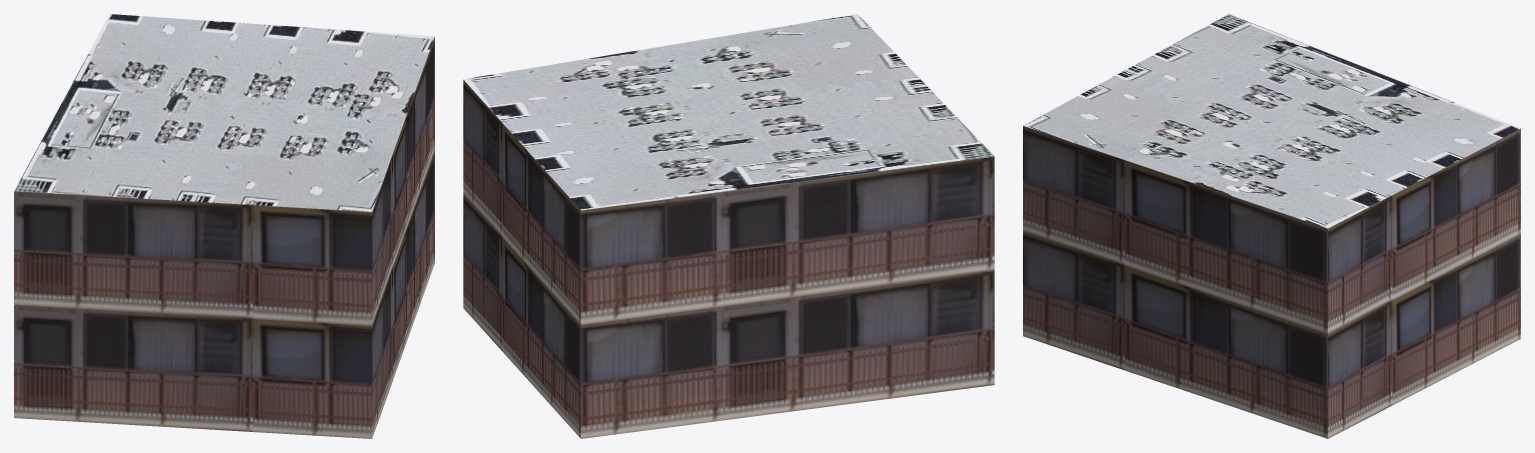
Rendered from ResTex__5091.fbx.
3 views of the same model, side by side, from view 1: azimuth 30°, elevation 25°; view 2: azimuth 150°, elevation 25°; view 3: azimuth 270°, elevation 25° (orthographic). The views are drawn at different scales.
Parts seen in each view (by area): view 1: CityEngineMaterial_6_m, CityEngineMaterial_2_m; view 2: CityEngineMaterial_6_m, CityEngineMaterial_2_m; view 3: CityEngineMaterial_6_m, CityEngineMaterial_2_m.
Boxes of the visible parts, bbox=[...] form: CityEngineMaterial_6_m: bbox=[14, 36, 434, 438]; CityEngineMaterial_2_m: bbox=[14, 14, 434, 211]; CityEngineMaterial_6_m: bbox=[463, 80, 994, 438]; CityEngineMaterial_2_m: bbox=[463, 14, 994, 210]; CityEngineMaterial_6_m: bbox=[1023, 126, 1520, 438]; CityEngineMaterial_2_m: bbox=[1023, 14, 1520, 228].
Bounding box in the file's own units: 13.12 × 6 × 12.86.
Materials: 2 (2 with a texture image).
